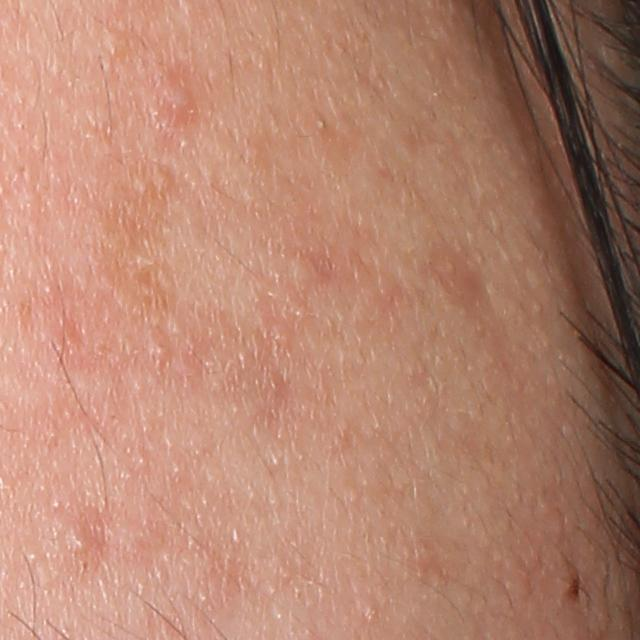comedo: (102, 31, 131, 57), (146, 339, 173, 363), (362, 601, 381, 624), (315, 117, 327, 132)
nevus: (565, 571, 583, 604)
